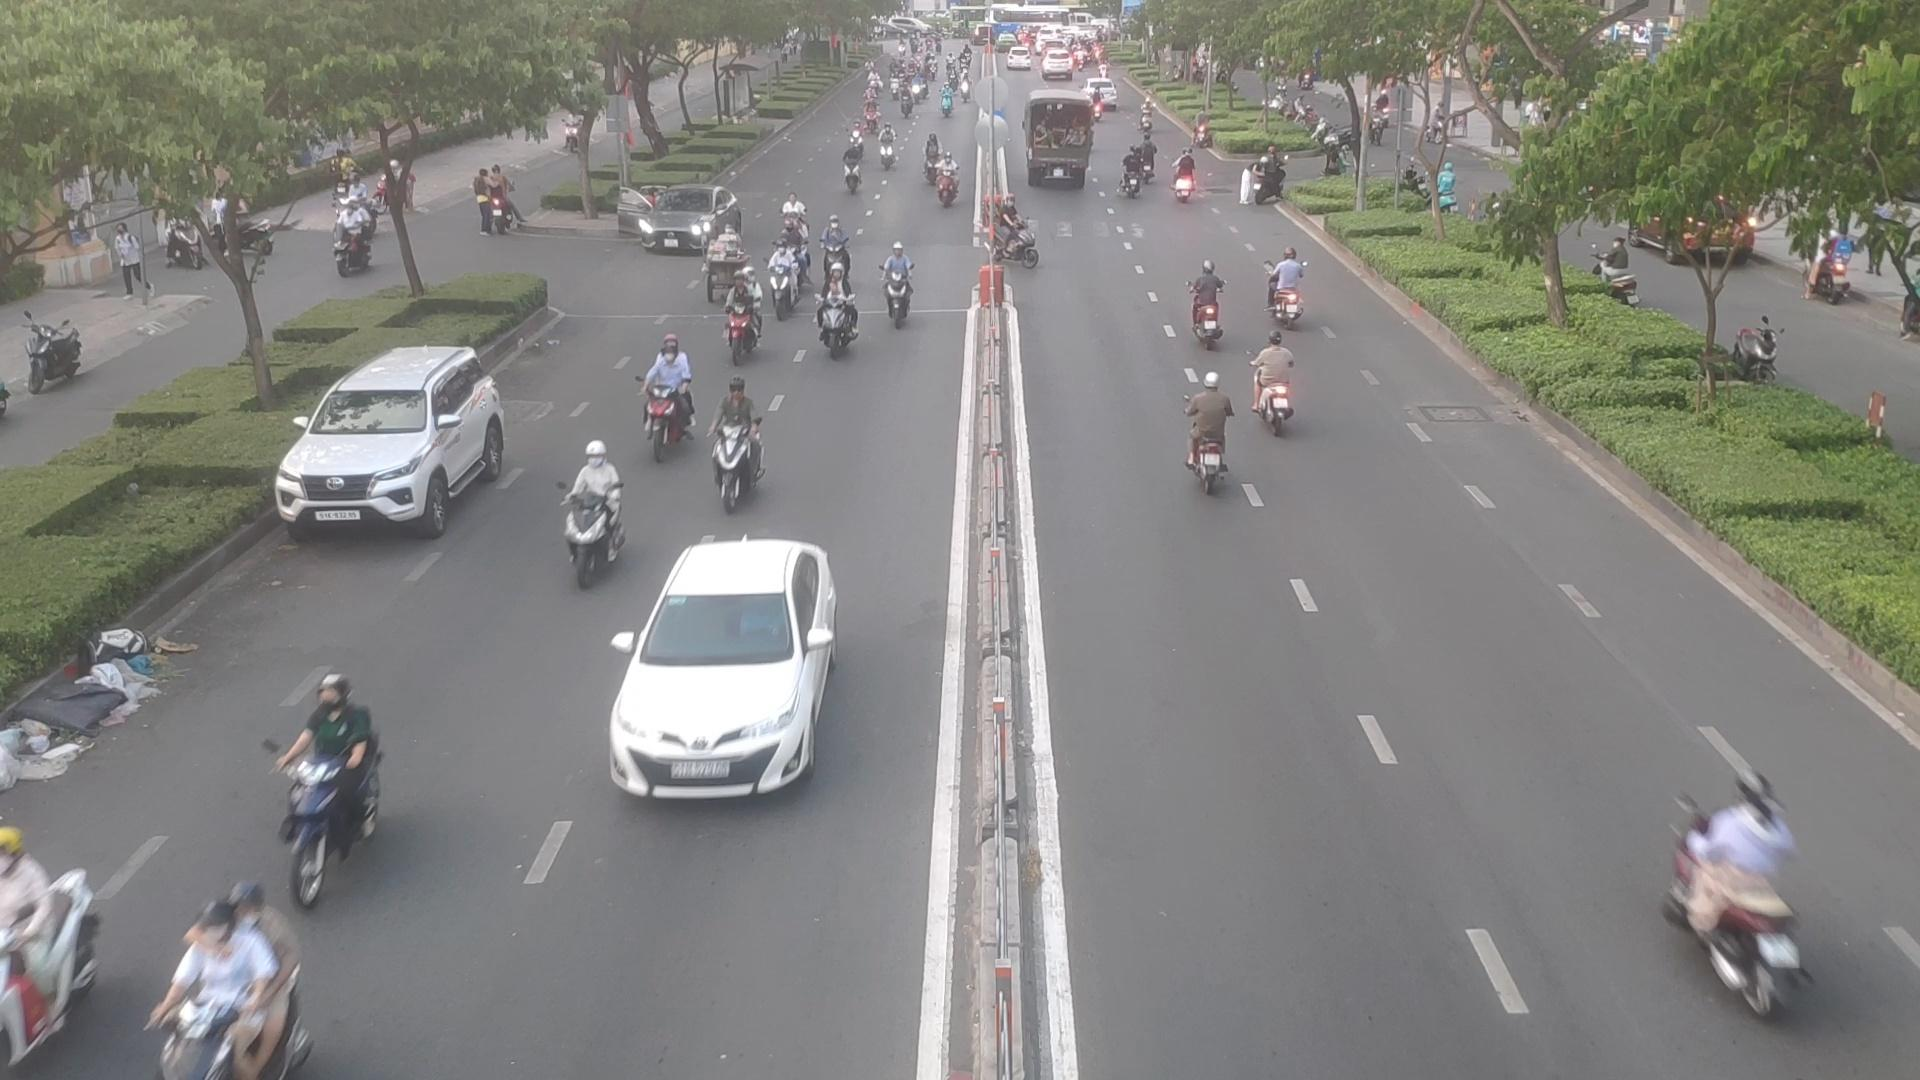car: (600, 541, 843, 798), (273, 345, 512, 537), (622, 191, 738, 258)
motorbike: (146, 880, 331, 1080), (1662, 753, 1803, 1011), (0, 823, 98, 1051), (280, 760, 386, 906), (640, 326, 694, 463), (559, 481, 628, 578), (709, 373, 764, 493), (1189, 367, 1232, 493), (986, 193, 1036, 266), (877, 239, 916, 331), (1191, 251, 1222, 357), (767, 225, 800, 326), (1267, 243, 1307, 323), (1261, 316, 1287, 436), (724, 266, 757, 357), (816, 302, 860, 356), (1253, 146, 1288, 199), (931, 154, 961, 214), (840, 137, 866, 196), (822, 214, 847, 274), (1170, 152, 1197, 206), (1126, 146, 1145, 199)
